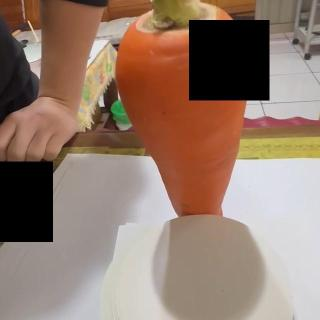carrot: (113, 0, 247, 221)
